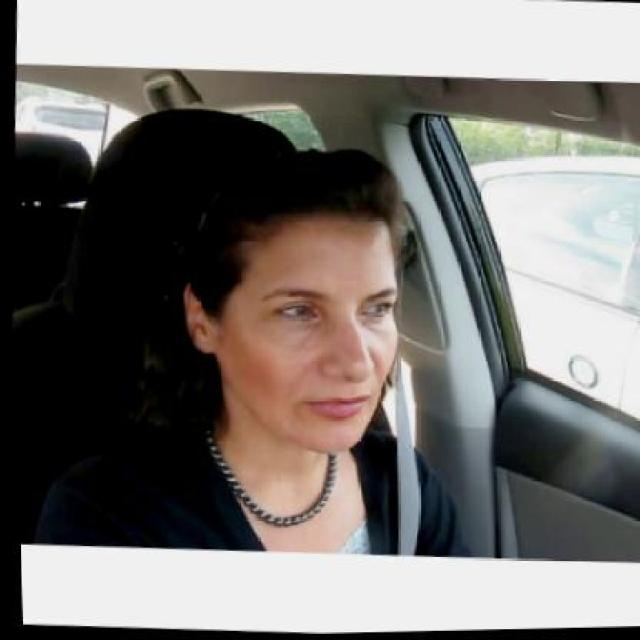attentif: (168, 142, 412, 460)
